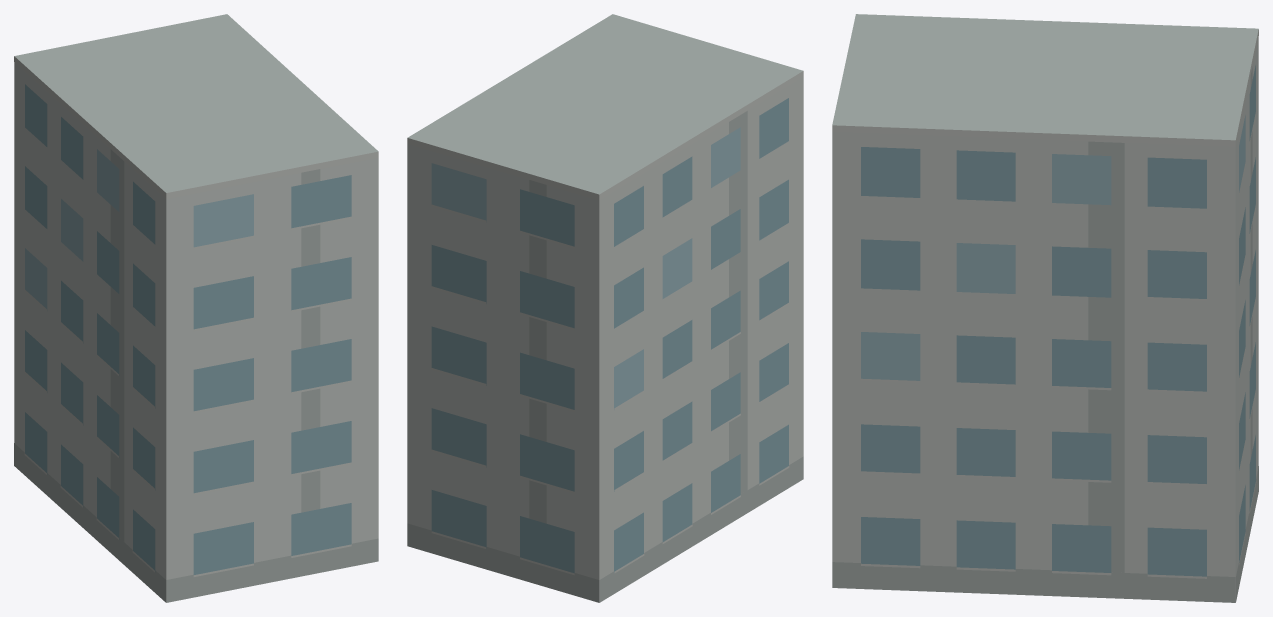
File: survey-upis-32946353.glb
The picture shows the model from 3 angles, left to right: view 1: azimuth 30°, elevation 25°; view 2: azimuth 150°, elevation 25°; view 3: azimuth 270°, elevation 25°; orthographic projection. The views are drawn at different scales.
Visible parts, largest first — view 1: survey-upis-32946353.tmp; view 2: survey-upis-32946353.tmp; view 3: survey-upis-32946353.tmp.
Part boxes in pixels (x1,y1,x2,y2): survey-upis-32946353.tmp: [14, 14, 378, 602]; survey-upis-32946353.tmp: [407, 14, 803, 602]; survey-upis-32946353.tmp: [832, 14, 1258, 602].
Size of the model in its own units: 9.79 by 16.7 by 13.97.
